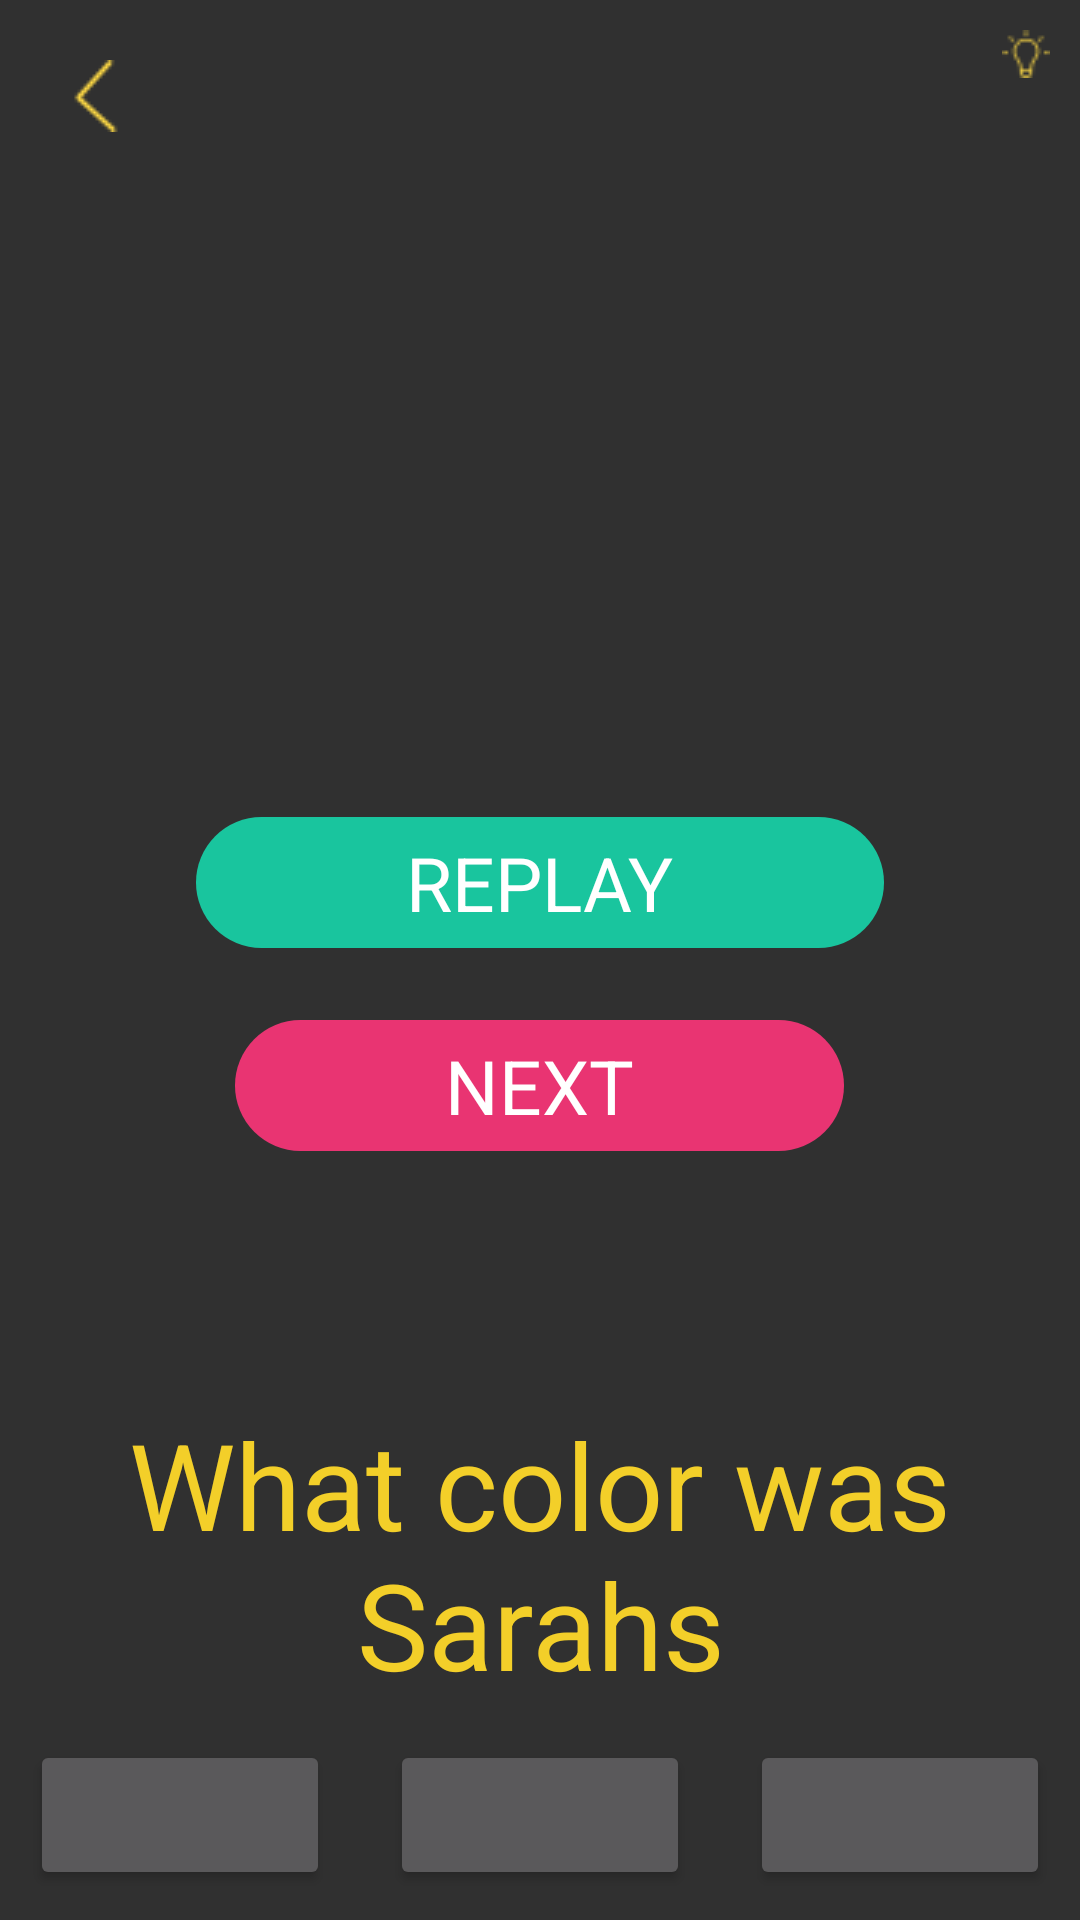

Icon click points for this 1080x1920 phone screenshot, format point (x, y):
arrow: point (95, 96)
lightbulb: point (1026, 54)
